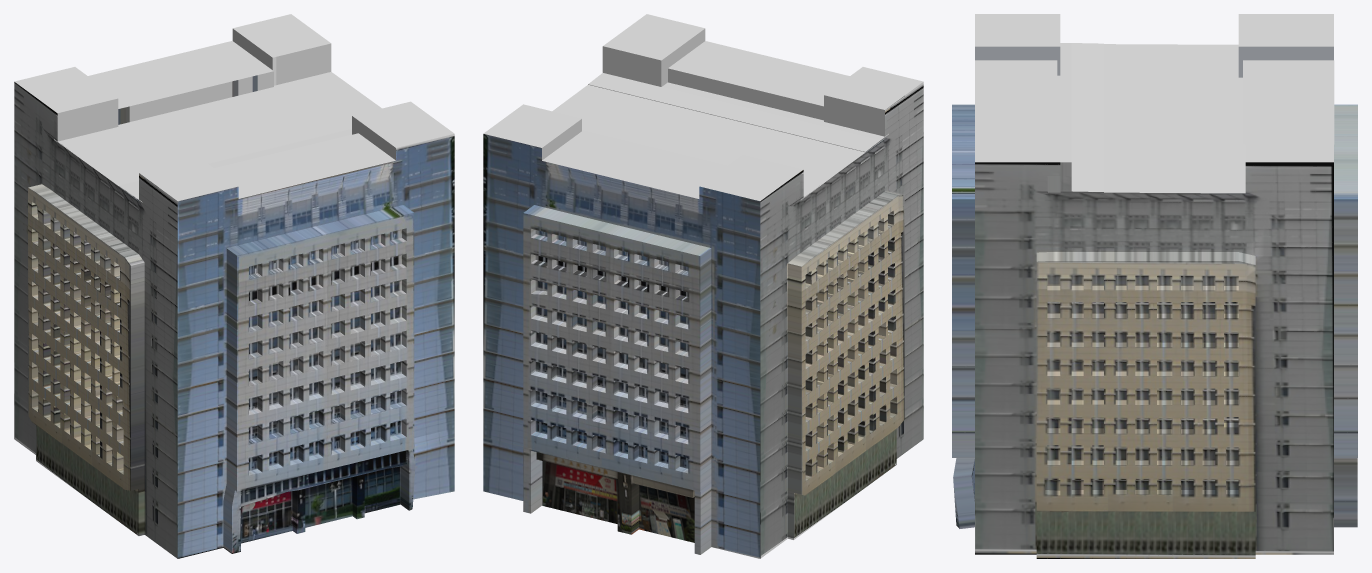
3 views of the same model, side by side, from view 1: azimuth 30°, elevation 25°; view 2: azimuth 150°, elevation 25°; view 3: azimuth 270°, elevation 25° (orthographic). The views are drawn at different scales.
Parts seen in each view (by area): view 1: 最最最最最後了拉qaq; view 2: 最最最最最後了拉qaq; view 3: 最最最最最後了拉qaq.
Part boxes in pixels (x1,y1,x2,y2): 最最最最最後了拉qaq: [14, 14, 454, 558]; 最最最最最後了拉qaq: [483, 14, 923, 558]; 最最最最最後了拉qaq: [952, 14, 1357, 558].
Bounding box in the file's own units: 0.8891 × 0.9902 × 0.9266.
2 materials, 1 textured.
